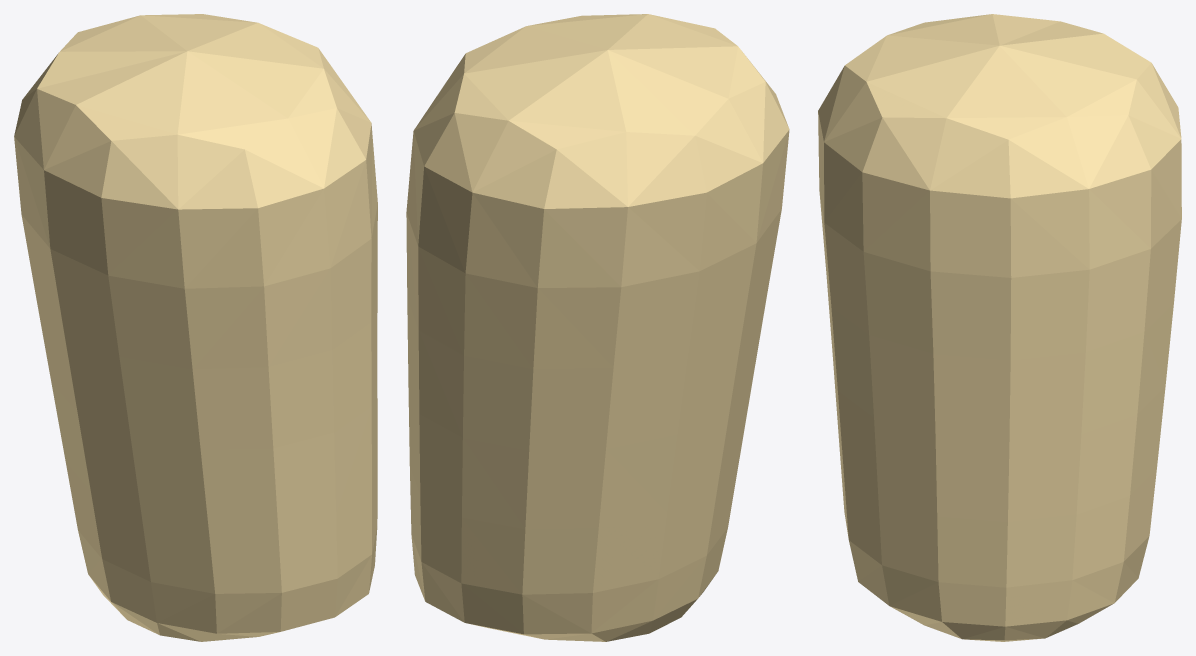
The model's file is leftLeg.obj.
3 renders of one model, left to right at view 1: azimuth 30°, elevation 25°; view 2: azimuth 150°, elevation 25°; view 3: azimuth 270°, elevation 25°, orthographic. The views are drawn at different scales.
Parts seen in each view (by area): view 1: 足.001; view 2: 足.001; view 3: 足.001.
Part boxes in pixels (<box>): 足.001: <box>14,14,377,641</box>; 足.001: <box>406,14,789,641</box>; 足.001: <box>818,14,1181,641</box>.
Size of the model in its own units: 0.0776 by 0.13 by 0.0809.
Materials: 1 (1 with a texture image).
